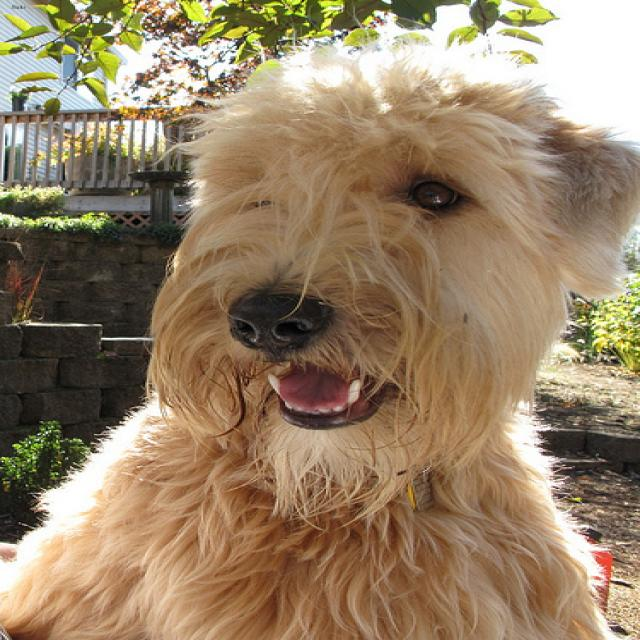dog-wheaten_terrier: (2, 33, 637, 637)
